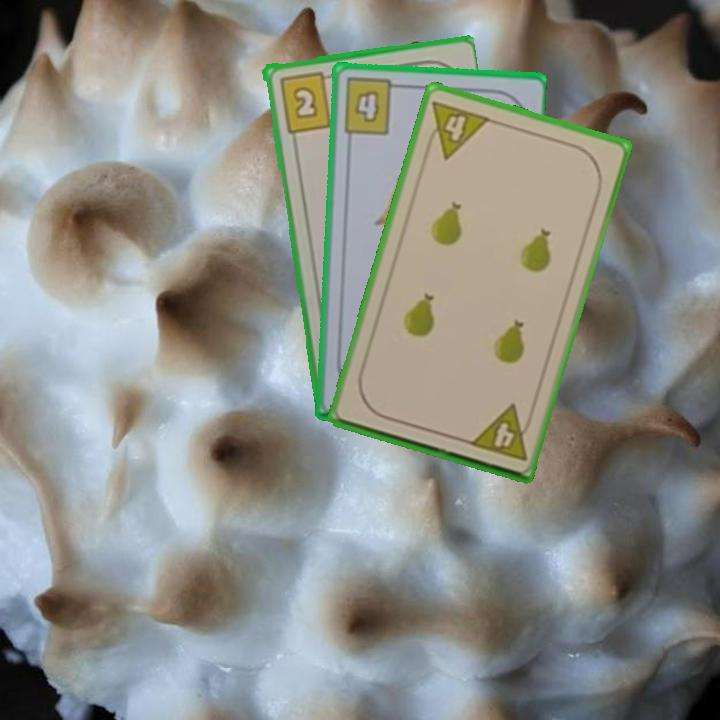2b: (275, 68, 336, 135)
4b: (340, 74, 404, 138)
4p: (420, 96, 493, 162), (465, 401, 536, 464)
